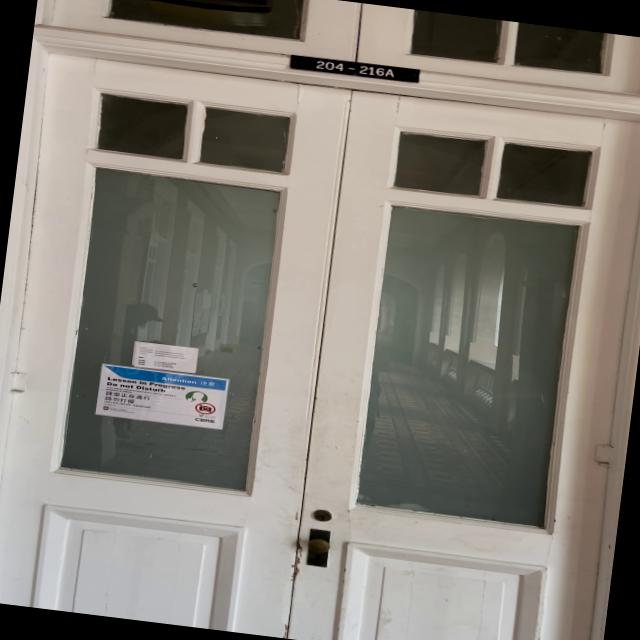room204: (280, 48, 422, 86)
